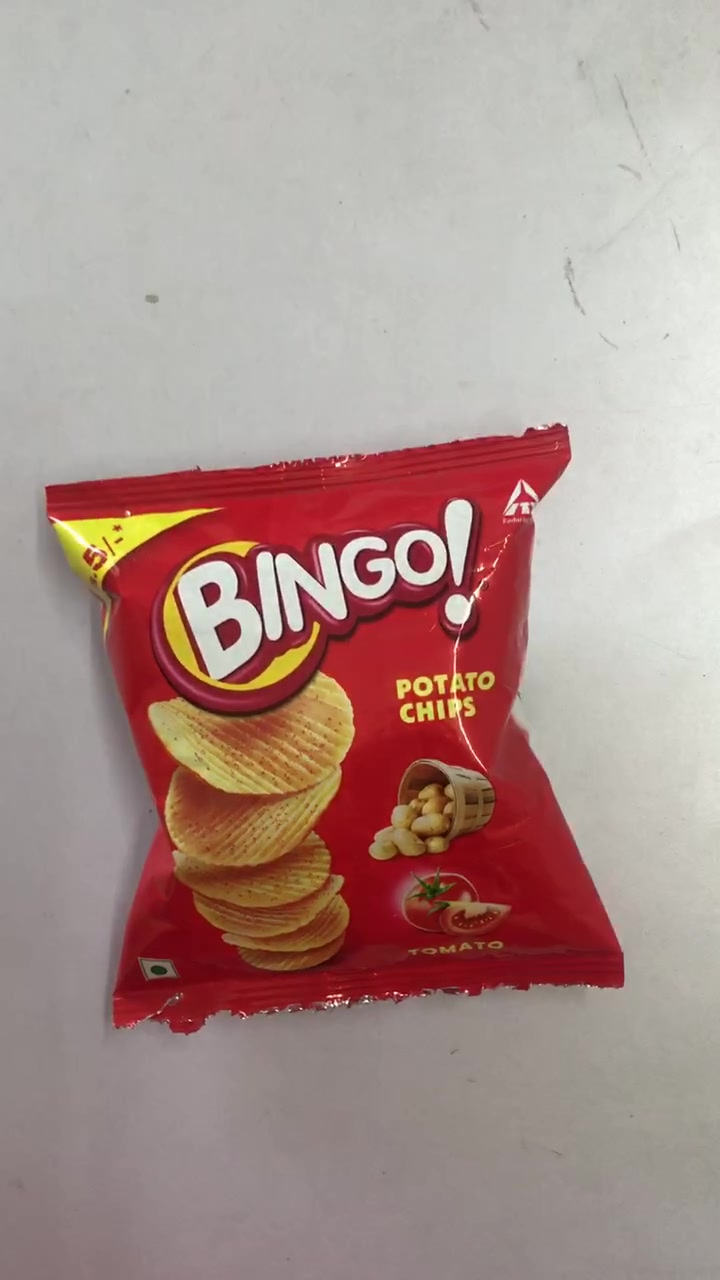Bingo: (49, 453, 617, 992)
